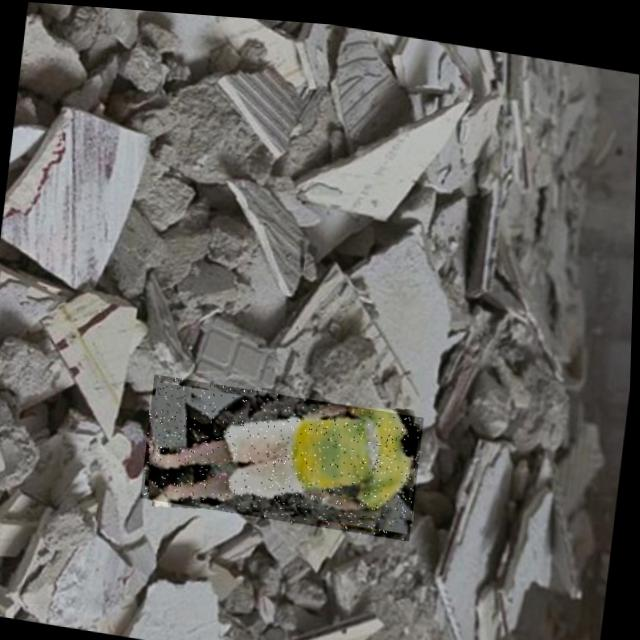Person in Rubble: (141, 370, 426, 535)
